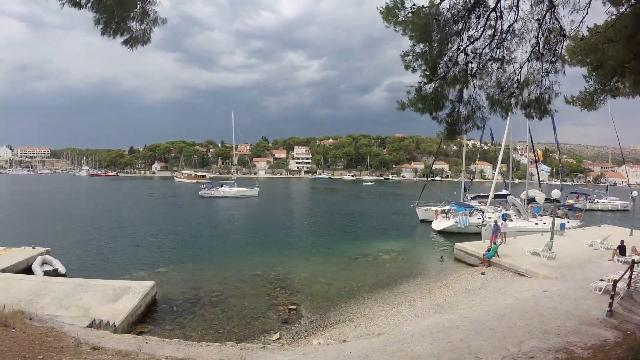Freighter: (165, 164, 215, 185)
Sailboat: (192, 179, 262, 203)
speedboat: (358, 178, 379, 188)
